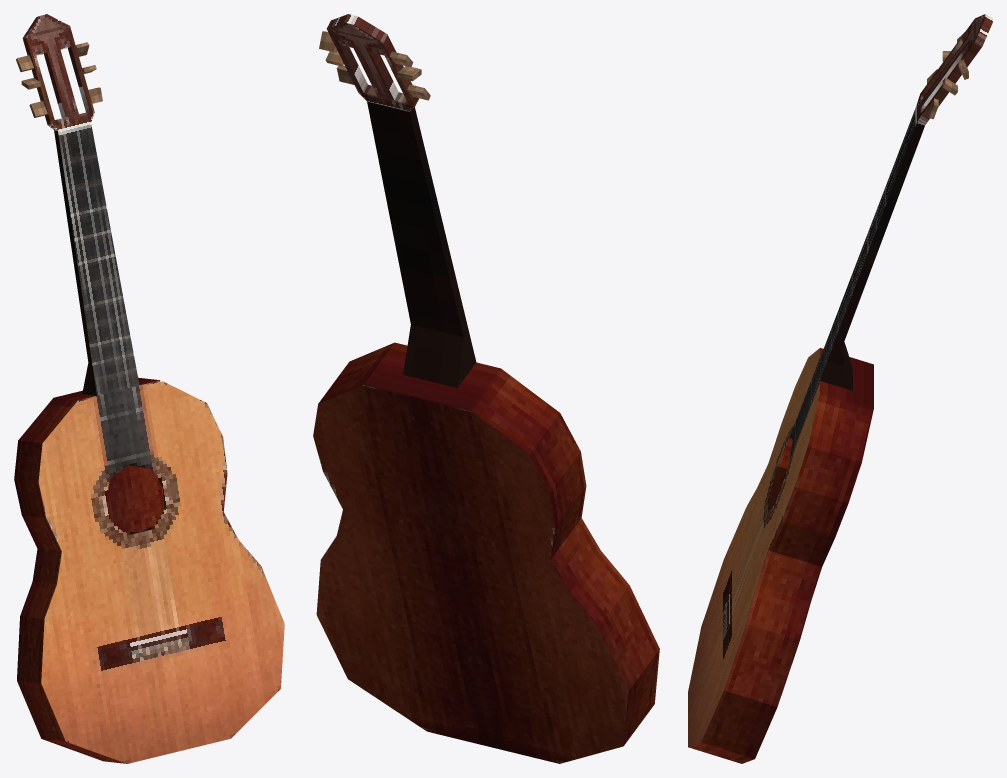
Rendered from classical-guitar-ps1-low-poly.glb.
3 views of the same model, side by side, from view 1: azimuth 30°, elevation 25°; view 2: azimuth 150°, elevation 25°; view 3: azimuth 270°, elevation 25° (orthographic). The views are drawn at different scales.
Parts seen in each view (by area): view 1: Cube.005; view 2: Cube.005; view 3: Cube.005.
Part boxes in pixels (box(x1,y1,x2,y2)): Cube.005: box(14, 14, 284, 763); Cube.005: box(313, 14, 659, 763); Cube.005: box(688, 14, 992, 763).
Bounding box in the file's own units: 6.31 × 16.16 × 6.2.
Materials: 1 (1 with a texture image).
